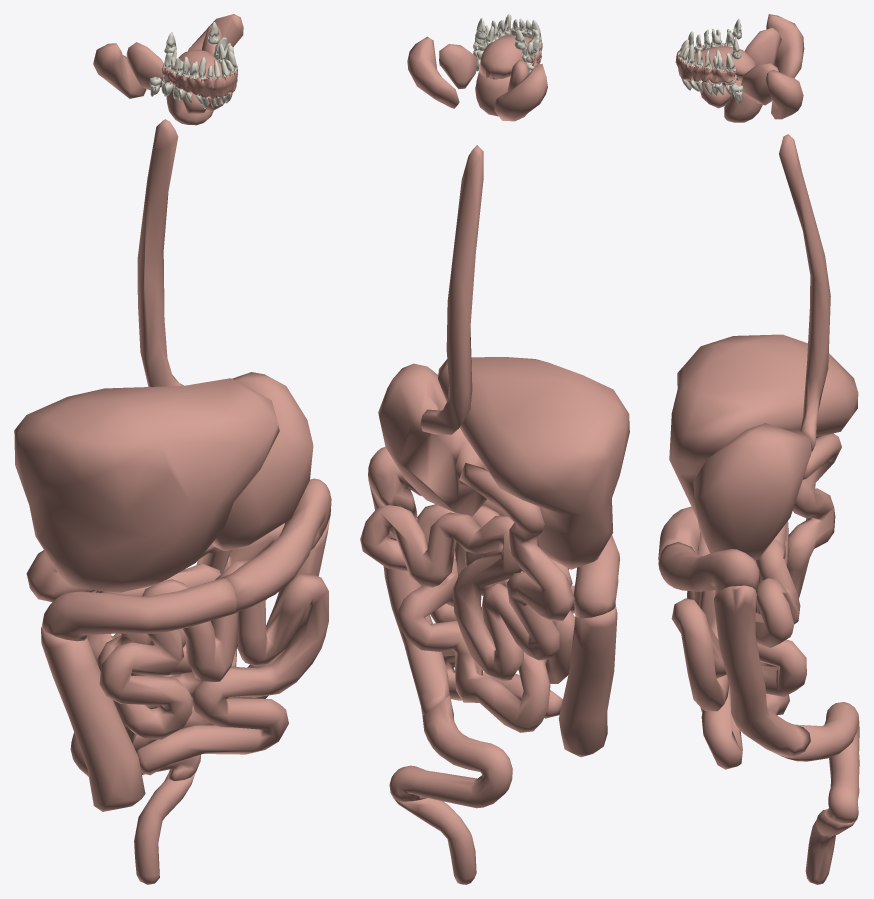
Rendered from pediatric_adolescent_female.digestive.LOD2.glb.
The picture shows the model from 3 angles, left to right: view 1: azimuth 30°, elevation 25°; view 2: azimuth 150°, elevation 25°; view 3: azimuth 270°, elevation 25°; orthographic projection. The views are drawn at different scales.
Parts seen in each view (by area): view 1: PEDIATRIC.ADOLESCENT.FEMALE.DIGESTIVE.LIVER, PEDIATRIC.ADOLESCENT.FEMALE.DIGESTIVE.SMALL_INTESTINE_WALL, PEDIATRIC.ADOLESCENT.FEMALE.DIGESTIVE.TRANSVERSE_COLON_WALL. (×2), PEDIATRIC.ADOLESCENT.FEMALE.DIGESTIVE.ASCENDING_COLON_WALL, PEDIATRIC.ADOLESCENT.FEMALE.DIGESTIVE.STOMACH_WALL, PEDIATRIC.ADOLESCENT.FEMALE.DIGESTIVE.OESOPHAGUS_WALL, PEDIATRIC.ADOLESCENT.FEMALE.DIGESTIVE.SALIVARY_GLANDS.R, PEDIATRIC.ADOLESCENT.FEMALE.DIGESTIVE.RECTUM_WALL, PEDIATRIC.ADOLESCENT.FEMALE.DIGESTIVE.PERMANENT_CEMENTUM, PEDIATRIC.ADOLESCENT.FEMALE.DIGESTIVE.ORAL_MUCOSA_LIP_AND_CH, PEDIATRIC.ADOLESCENT.FEMALE.DIGESTIVE.SALIVARY_GLANDS.L, PEDIATRIC.ADOLESCENT.FEMALE.DIGESTIVE.DESCENDING_COLON_WALL (+2 smaller); view 2: PEDIATRIC.ADOLESCENT.FEMALE.DIGESTIVE.SMALL_INTESTINE_WALL, PEDIATRIC.ADOLESCENT.FEMALE.DIGESTIVE.LIVER, PEDIATRIC.ADOLESCENT.FEMALE.DIGESTIVE.STOMACH_WALL, PEDIATRIC.ADOLESCENT.FEMALE.DIGESTIVE.OESOPHAGUS_WALL, PEDIATRIC.ADOLESCENT.FEMALE.DIGESTIVE.SIGMOID_COLON_WALL, PEDIATRIC.ADOLESCENT.FEMALE.DIGESTIVE.ASCENDING_COLON_WALL, PEDIATRIC.ADOLESCENT.FEMALE.DIGESTIVE.TRANSVERSE_COLON_WALL. (×2), PEDIATRIC.ADOLESCENT.FEMALE.DIGESTIVE.DESCENDING_COLON_WALL, PEDIATRIC.ADOLESCENT.FEMALE.DIGESTIVE.SALIVARY_GLANDS.L, PEDIATRIC.ADOLESCENT.FEMALE.DIGESTIVE.RECTUM_WALL, PEDIATRIC.ADOLESCENT.FEMALE.DIGESTIVE.SALIVARY_GLANDS.R, PEDIATRIC.ADOLESCENT.FEMALE.DIGESTIVE.PERMANENT_CEMENTUM (+2 smaller); view 3: PEDIATRIC.ADOLESCENT.FEMALE.DIGESTIVE.SMALL_INTESTINE_WALL, PEDIATRIC.ADOLESCENT.FEMALE.DIGESTIVE.LIVER, PEDIATRIC.ADOLESCENT.FEMALE.DIGESTIVE.STOMACH_WALL, PEDIATRIC.ADOLESCENT.FEMALE.DIGESTIVE.DESCENDING_COLON_WALL, PEDIATRIC.ADOLESCENT.FEMALE.DIGESTIVE.OESOPHAGUS_WALL, PEDIATRIC.ADOLESCENT.FEMALE.DIGESTIVE.TRANSVERSE_COLON_WALL. (×2), PEDIATRIC.ADOLESCENT.FEMALE.DIGESTIVE.SIGMOID_COLON_WALL, PEDIATRIC.ADOLESCENT.FEMALE.DIGESTIVE.SALIVARY_GLANDS.L, PEDIATRIC.ADOLESCENT.FEMALE.DIGESTIVE.SALIVARY_GLANDS.R, PEDIATRIC.ADOLESCENT.FEMALE.DIGESTIVE.PERMANENT_CEMENTUM, PEDIATRIC.ADOLESCENT.FEMALE.DIGESTIVE.RECTUM_WALL, PEDIATRIC.ADOLESCENT.FEMALE.DIGESTIVE.ORAL_MUCOSA_LIP_AND_CH (+2 smaller).
Part boxes in pixels (x1,y1,x2,y2): PEDIATRIC.ADOLESCENT.FEMALE.DIGESTIVE.LIVER: (14,378,279,592); PEDIATRIC.ADOLESCENT.FEMALE.DIGESTIVE.SMALL_INTESTINE_WALL: (26,523,328,775); PEDIATRIC.ADOLESCENT.FEMALE.DIGESTIVE.TRANSVERSE_COLON_WALL. (×2): (41,478,331,641); PEDIATRIC.ADOLESCENT.FEMALE.DIGESTIVE.ASCENDING_COLON_WALL: (41,627,145,811); PEDIATRIC.ADOLESCENT.FEMALE.DIGESTIVE.STOMACH_WALL: (212,372,313,550); PEDIATRIC.ADOLESCENT.FEMALE.DIGESTIVE.OESOPHAGUS_WALL: (137,119,183,386); PEDIATRIC.ADOLESCENT.FEMALE.DIGESTIVE.SALIVARY_GLANDS.R: (93,42,209,114); PEDIATRIC.ADOLESCENT.FEMALE.DIGESTIVE.RECTUM_WALL: (134,773,195,884); PEDIATRIC.ADOLESCENT.FEMALE.DIGESTIVE.PERMANENT_CEMENTUM: (150,22,236,108); PEDIATRIC.ADOLESCENT.FEMALE.DIGESTIVE.ORAL_MUCOSA_LIP_AND_CH: (162,65,237,99); PEDIATRIC.ADOLESCENT.FEMALE.DIGESTIVE.SALIVARY_GLANDS.L: (188,14,243,111); PEDIATRIC.ADOLESCENT.FEMALE.DIGESTIVE.DESCENDING_COLON_WALL: (228,509,331,698); PEDIATRIC.ADOLESCENT.FEMALE.DIGESTIVE.SMALL_INTESTINE_WALL: (360,463,575,732); PEDIATRIC.ADOLESCENT.FEMALE.DIGESTIVE.LIVER: (438,357,629,569); PEDIATRIC.ADOLESCENT.FEMALE.DIGESTIVE.STOMACH_WALL: (378,363,487,516); PEDIATRIC.ADOLESCENT.FEMALE.DIGESTIVE.OESOPHAGUS_WALL: (420,145,483,434); PEDIATRIC.ADOLESCENT.FEMALE.DIGESTIVE.SIGMOID_COLON_WALL: (389,695,512,808); PEDIATRIC.ADOLESCENT.FEMALE.DIGESTIVE.ASCENDING_COLON_WALL: (558,605,617,757); PEDIATRIC.ADOLESCENT.FEMALE.DIGESTIVE.TRANSVERSE_COLON_WALL. (×2): (368,447,619,618); PEDIATRIC.ADOLESCENT.FEMALE.DIGESTIVE.DESCENDING_COLON_WALL: (368,480,449,716); PEDIATRIC.ADOLESCENT.FEMALE.DIGESTIVE.SALIVARY_GLANDS.L: (407,36,477,108); PEDIATRIC.ADOLESCENT.FEMALE.DIGESTIVE.RECTUM_WALL: (394,798,476,884); PEDIATRIC.ADOLESCENT.FEMALE.DIGESTIVE.SALIVARY_GLANDS.R: (494,59,547,121); PEDIATRIC.ADOLESCENT.FEMALE.DIGESTIVE.PERMANENT_CEMENTUM: (474,14,541,72); PEDIATRIC.ADOLESCENT.FEMALE.DIGESTIVE.SMALL_INTESTINE_WALL: (671,433,841,769); PEDIATRIC.ADOLESCENT.FEMALE.DIGESTIVE.LIVER: (669,334,858,518); PEDIATRIC.ADOLESCENT.FEMALE.DIGESTIVE.STOMACH_WALL: (693,423,811,560); PEDIATRIC.ADOLESCENT.FEMALE.DIGESTIVE.DESCENDING_COLON_WALL: (714,585,810,757); PEDIATRIC.ADOLESCENT.FEMALE.DIGESTIVE.OESOPHAGUS_WALL: (779,134,830,451); PEDIATRIC.ADOLESCENT.FEMALE.DIGESTIVE.TRANSVERSE_COLON_WALL. (×2): (658,506,759,597); PEDIATRIC.ADOLESCENT.FEMALE.DIGESTIVE.SIGMOID_COLON_WALL: (779,702,859,823); PEDIATRIC.ADOLESCENT.FEMALE.DIGESTIVE.SALIVARY_GLANDS.L: (700,63,803,119); PEDIATRIC.ADOLESCENT.FEMALE.DIGESTIVE.SALIVARY_GLANDS.R: (701,14,804,85); PEDIATRIC.ADOLESCENT.FEMALE.DIGESTIVE.PERMANENT_CEMENTUM: (678,19,742,103); PEDIATRIC.ADOLESCENT.FEMALE.DIGESTIVE.RECTUM_WALL: (805,809,856,884); PEDIATRIC.ADOLESCENT.FEMALE.DIGESTIVE.ORAL_MUCOSA_LIP_AND_CH: (675,43,736,83).
Bounding box in the file's own units: 0.2446 × 0.7343 × 0.1563.
